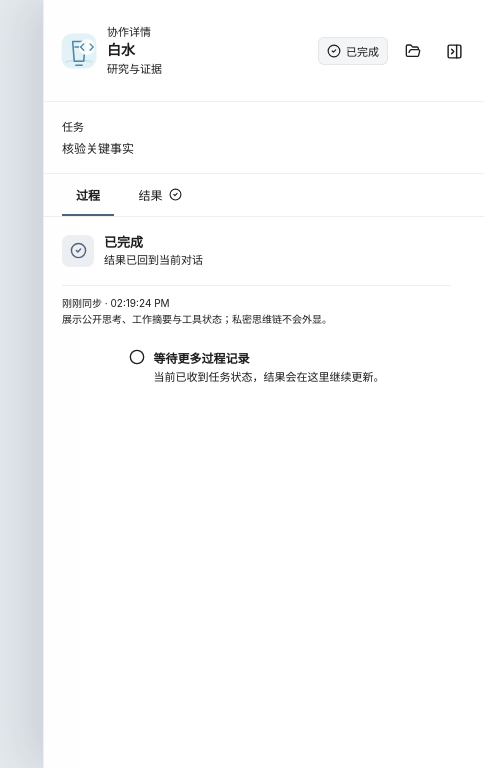
Test: SubAgentInspectorPanel interaction › updates an already-open inspector as the room publishes child identity and result
Expected: the text "正在定位该协作者的实时记录" is shown, [62, 297, 170, 309]
Expected: the text "已完成" is shown, [318, 37, 388, 65]
Click the button "结果". click: {"x": 160, "y": 195}
box: [134, 174, 186, 216]
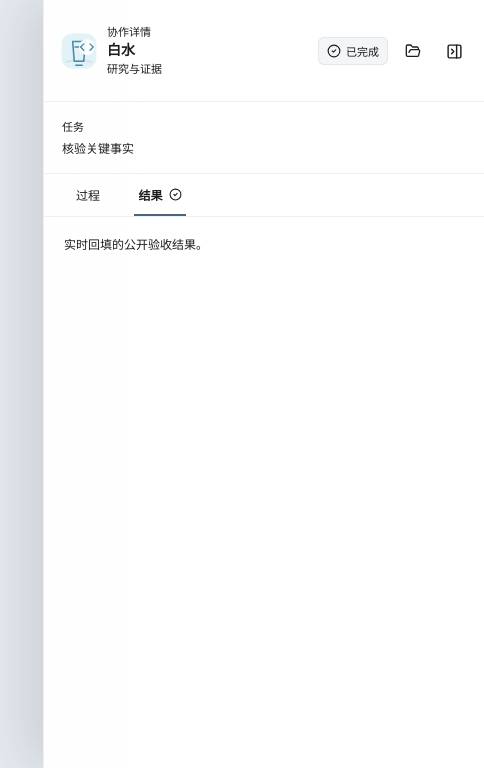
Now the text "实时回填的公开验收结果。" is shown, box [64, 237, 208, 252]
